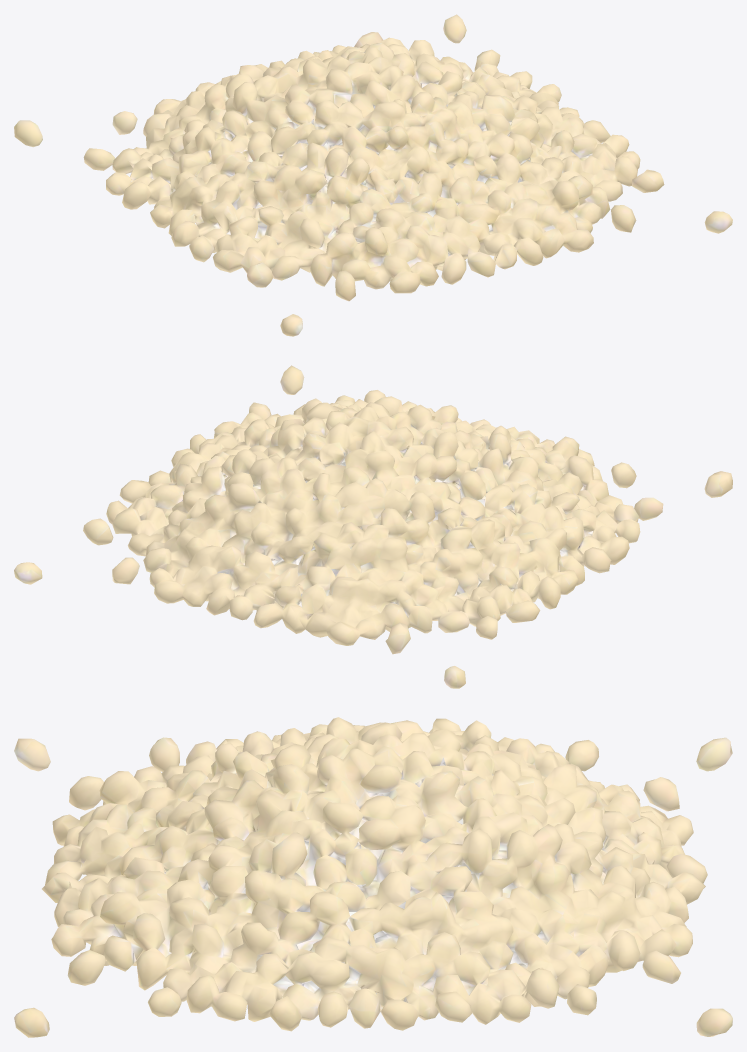
Rendered from rice-seeds.glb.
3 renders of one model, top to bottom at view 1: azimuth 30°, elevation 25°; view 2: azimuth 150°, elevation 25°; view 3: azimuth 270°, elevation 25°, orthographic. The views are drawn at different scales.
Visible parts, largest first — view 1: Mesh_0; view 2: Mesh_0; view 3: Mesh_0.
Part boxes in pixels (x1=…): Mesh_0: x1=14, y1=14, x2=732, y2=336; Mesh_0: x1=14, y1=365, x2=732, y2=688; Mesh_0: x1=14, y1=717, x2=732, y2=1037.
Bounding box in the file's own units: 0.186 × 0.05 × 0.1985.
Materials: 1 (1 with a texture image).
